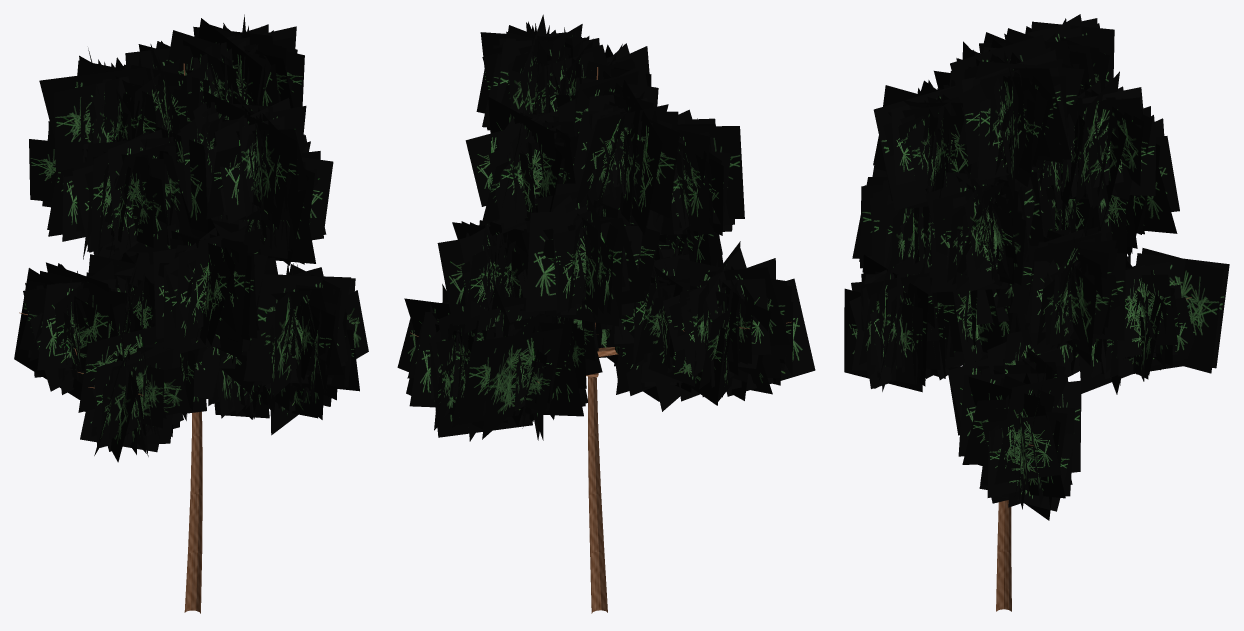
File: Pine_Young_LOD0.glb
3 renders of one model, left to right at view 1: azimuth 30°, elevation 25°; view 2: azimuth 150°, elevation 25°; view 3: azimuth 270°, elevation 25°, orthographic. The views are drawn at different scales.
Visible parts, largest first — view 1: Leaves_09, Leaves_06, Leaves_11, Leaves_01, Leaves_04, Leaves_03, Leaves_12, Leaves_13, Leaves_00, Leaves_08, Leaves_07, Trunk_Mesh (+1 smaller); view 2: Leaves_04, Leaves_07, Leaves_02, Leaves_12, Leaves_10, Leaves_13, Leaves_09, Leaves_00, Leaves_05, Leaves_01, Trunk_Mesh, Leaves_06 (+1 smaller); view 3: Leaves_00, Leaves_03, Leaves_13, Leaves_02, Leaves_05, Leaves_08, Leaves_10, Leaves_11, Leaves_07, Leaves_06, Leaves_12, Trunk_Mesh.
Boxes of the visible parts, x1=… form: Leaves_09: x1=72, y1=126, x2=208, y2=264; Leaves_06: x1=129, y1=215, x2=267, y2=358; Leaves_11: x1=177, y1=90, x2=309, y2=230; Leaves_01: x1=78, y1=307, x2=218, y2=462; Leaves_04: x1=14, y1=252, x2=155, y2=399; Leaves_03: x1=197, y1=257, x2=350, y2=404; Leaves_12: x1=39, y1=44, x2=209, y2=176; Leaves_13: x1=167, y1=14, x2=304, y2=108; Leaves_00: x1=208, y1=278, x2=368, y2=435; Leaves_08: x1=212, y1=134, x2=333, y2=265; Leaves_07: x1=29, y1=121, x2=139, y2=260; Trunk_Mesh: x1=183, y1=63, x2=202, y2=613; Leaves_04: x1=600, y1=241, x2=789, y2=405; Leaves_07: x1=522, y1=183, x2=660, y2=326; Leaves_02: x1=459, y1=286, x2=602, y2=440; Leaves_12: x1=555, y1=63, x2=679, y2=234; Leaves_10: x1=465, y1=97, x2=578, y2=233; Leaves_13: x1=476, y1=14, x2=611, y2=130; Leaves_09: x1=647, y1=109, x2=744, y2=243; Leaves_00: x1=397, y1=284, x2=587, y2=441; Leaves_05: x1=437, y1=220, x2=528, y2=333; Leaves_01: x1=603, y1=258, x2=815, y2=411; Trunk_Mesh: x1=588, y1=67, x2=607, y2=613; Leaves_06: x1=655, y1=232, x2=723, y2=275; Leaves_00: x1=947, y1=331, x2=1081, y2=520; Leaves_03: x1=844, y1=240, x2=1019, y2=392; Leaves_13: x1=950, y1=35, x2=1084, y2=200; Leaves_02: x1=1040, y1=248, x2=1229, y2=394; Leaves_05: x1=976, y1=220, x2=1125, y2=365; Leaves_08: x1=925, y1=167, x2=1053, y2=292; Leaves_10: x1=1031, y1=71, x2=1155, y2=212; Leaves_11: x1=873, y1=80, x2=971, y2=210; Leaves_07: x1=1048, y1=106, x2=1179, y2=262; Leaves_06: x1=852, y1=165, x2=935, y2=273; Leaves_12: x1=979, y1=14, x2=1114, y2=91; Trunk_Mesh: x1=996, y1=500, x2=1011, y2=611.
Bounding box in the file's own units: 8.13 × 12.41 × 7.32.
Materials: 2 (2 with a texture image).
